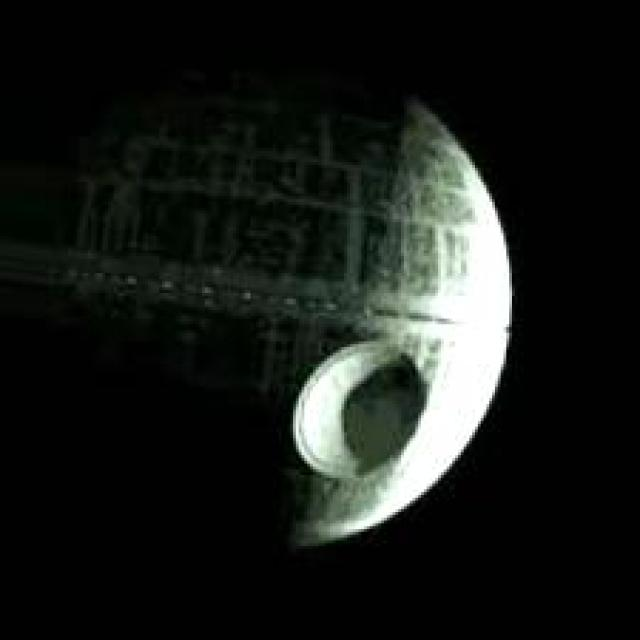deathstar: (2, 71, 514, 551)
